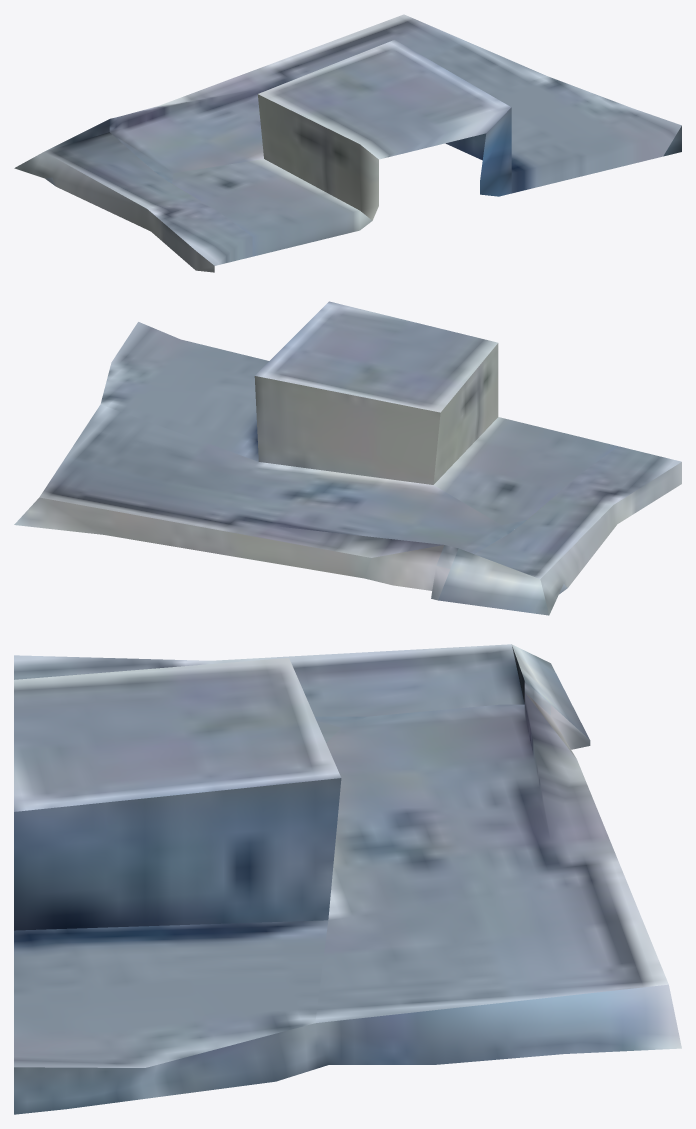
The picture shows the model from 3 angles, top to bottom: view 1: azimuth 30°, elevation 25°; view 2: azimuth 150°, elevation 25°; view 3: azimuth 270°, elevation 25°; orthographic projection. The views are drawn at different scales.
Parts seen in each view (by area): view 1: 3043627270436161574_0; view 2: 3043627270436161574_0; view 3: 3043627270436161574_0.
Boxes of the visible parts, x1,y1,x2,y2 form: 3043627270436161574_0: (14,14,681,272); 3043627270436161574_0: (14,301,681,615); 3043627270436161574_0: (14,644,681,1114).
Size of the model in its own units: 25.16 by 4.62 by 15.74.
1 material, 1 textured.
